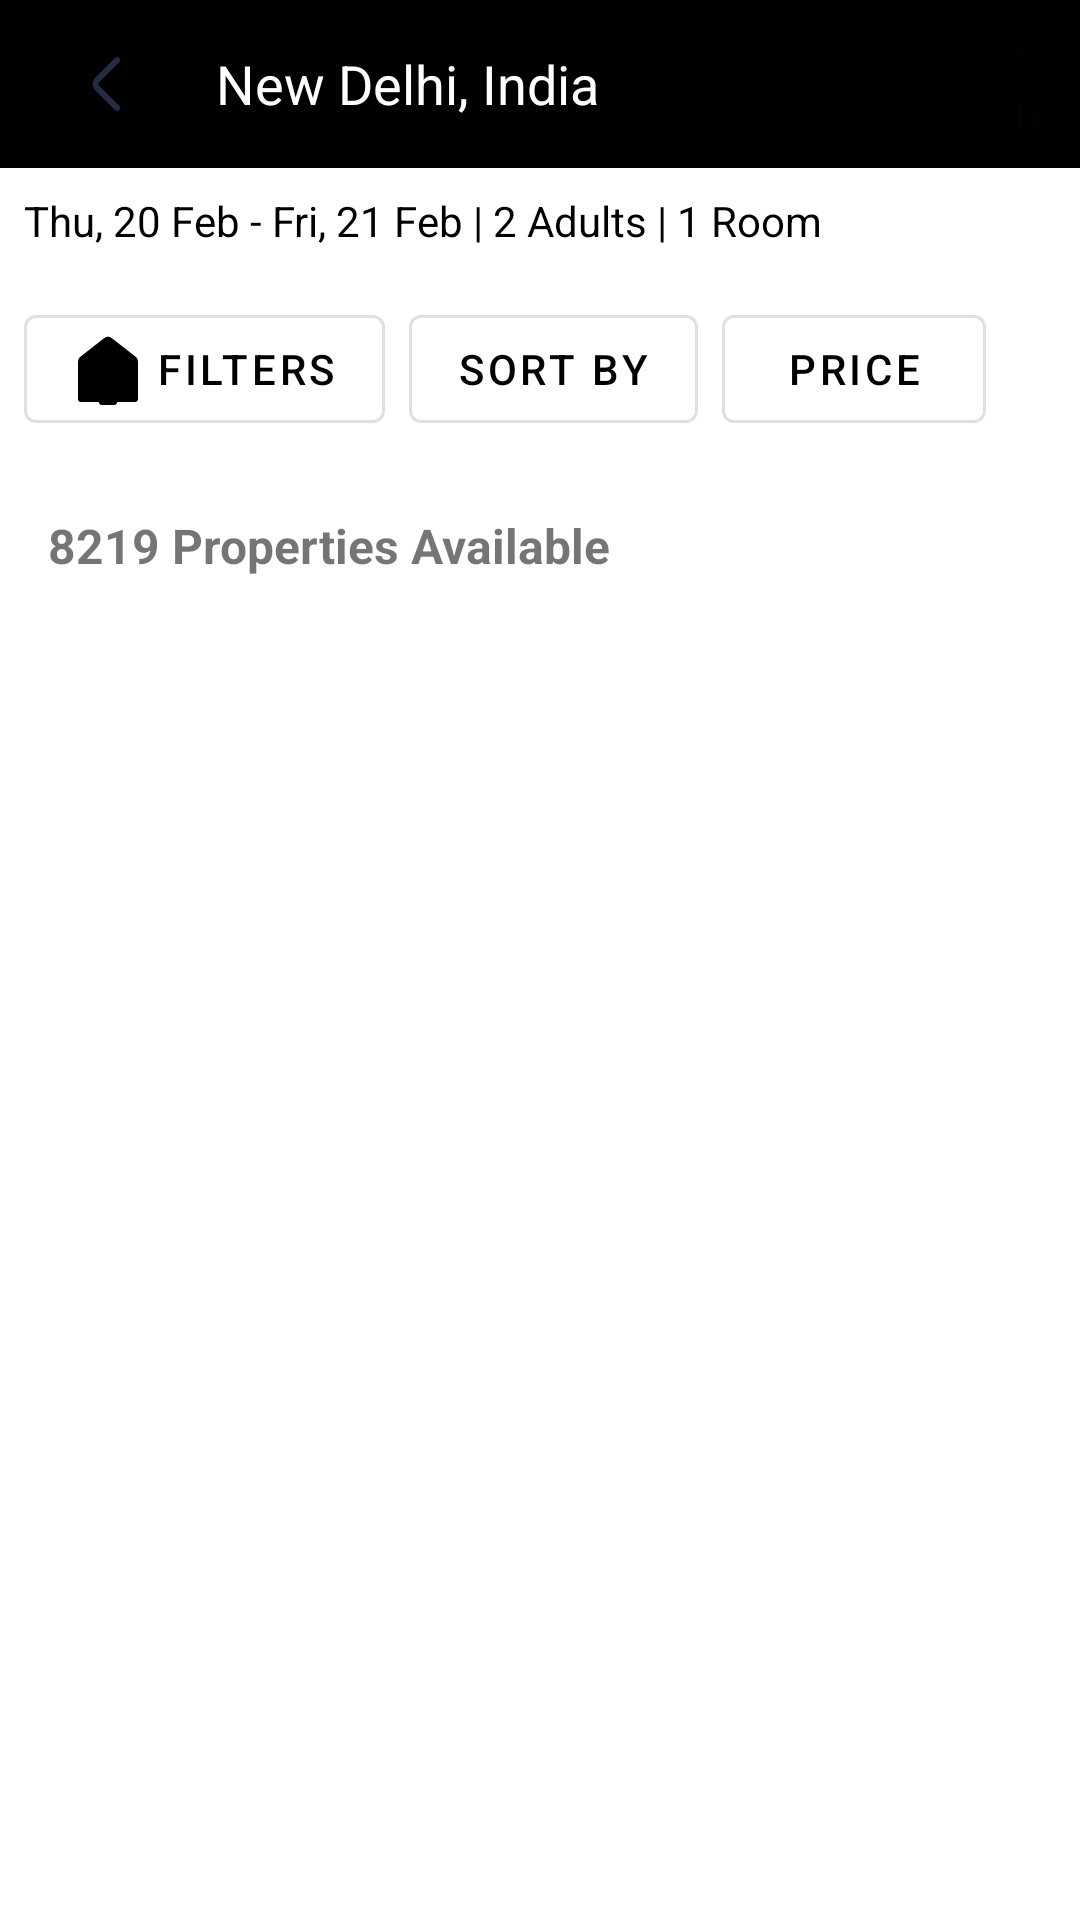

Where to tap for icons on this 1080 x 1920 app screen, as point (x, y):
arrow left: point (106, 84)
